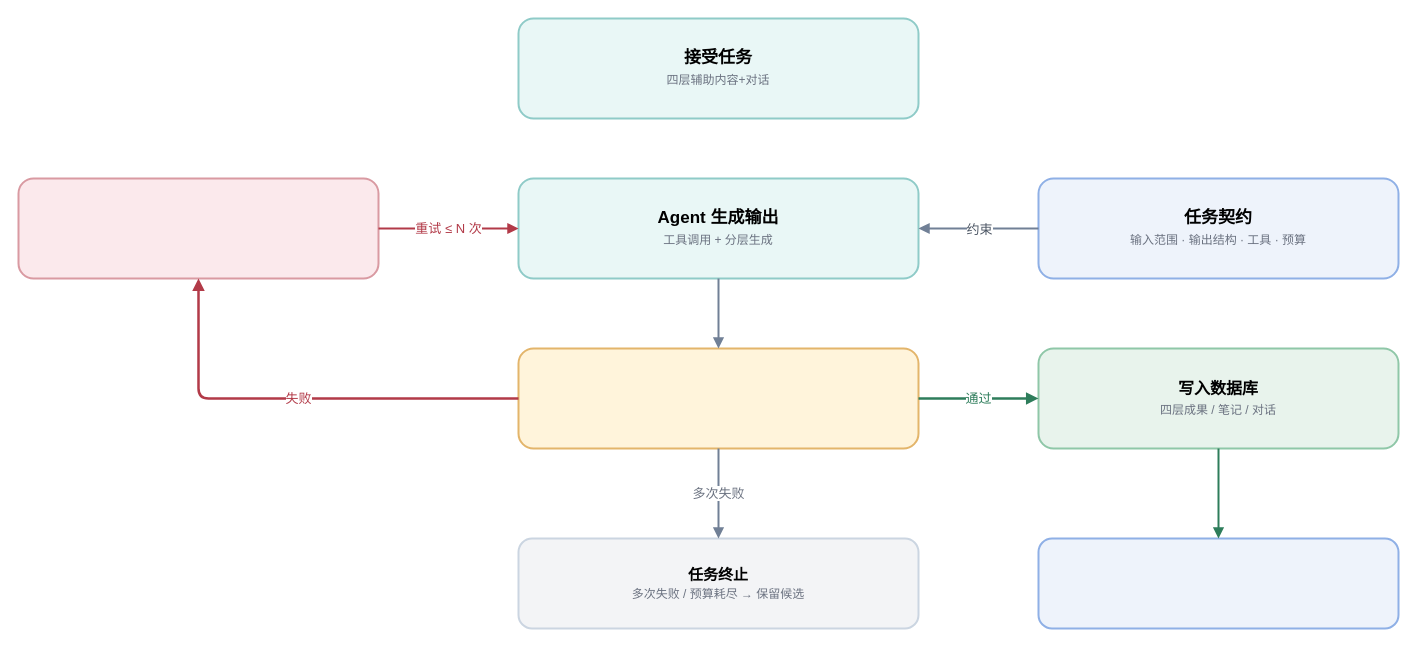
The diagram is 1416 pixels wide and 646 high, and some of its shapes have lost their labels. The shapes that lost their labels are listed below. From the top down, each one's box as (x1, y1, x2, y2) in pixels, then its label:
(17, 177, 379, 279): 返回 Agent 修改 只修复校验指出的问题
(517, 347, 919, 449): 结构化 + 引文/指纹校验 字段完整 · 节点覆盖 · 引文逐字
(1037, 537, 1399, 629): 前端展示 四层内容 · 笔记 · 对话
